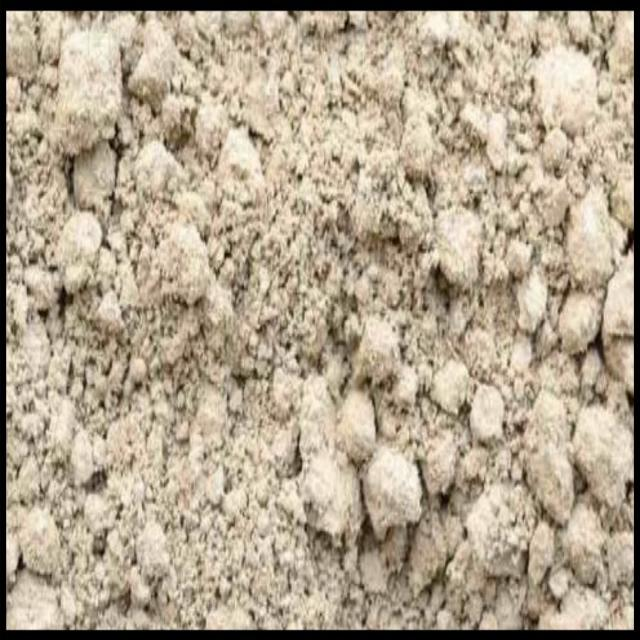Alluvial Soil: (53, 114, 594, 592)
